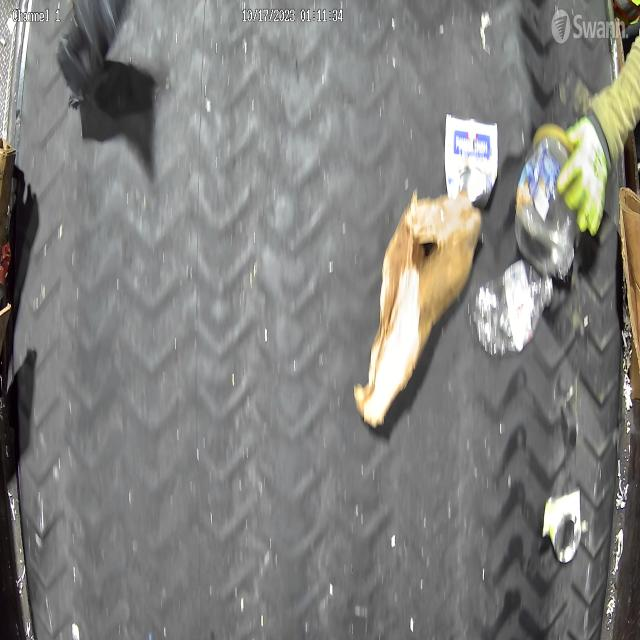can: (444, 113, 498, 208), (543, 490, 582, 565)
plastic_bottle: (476, 262, 554, 356)
